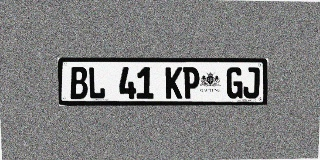1: (137, 67, 153, 99)
4: (119, 67, 136, 99)
B: (70, 67, 88, 99)
G: (226, 67, 243, 99)
J: (243, 67, 260, 98)
K: (166, 67, 182, 99)
L: (88, 67, 105, 99)
P: (183, 67, 200, 99)
